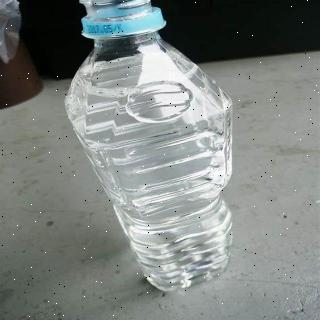Plastic-bottle: (63, 1, 245, 299)
